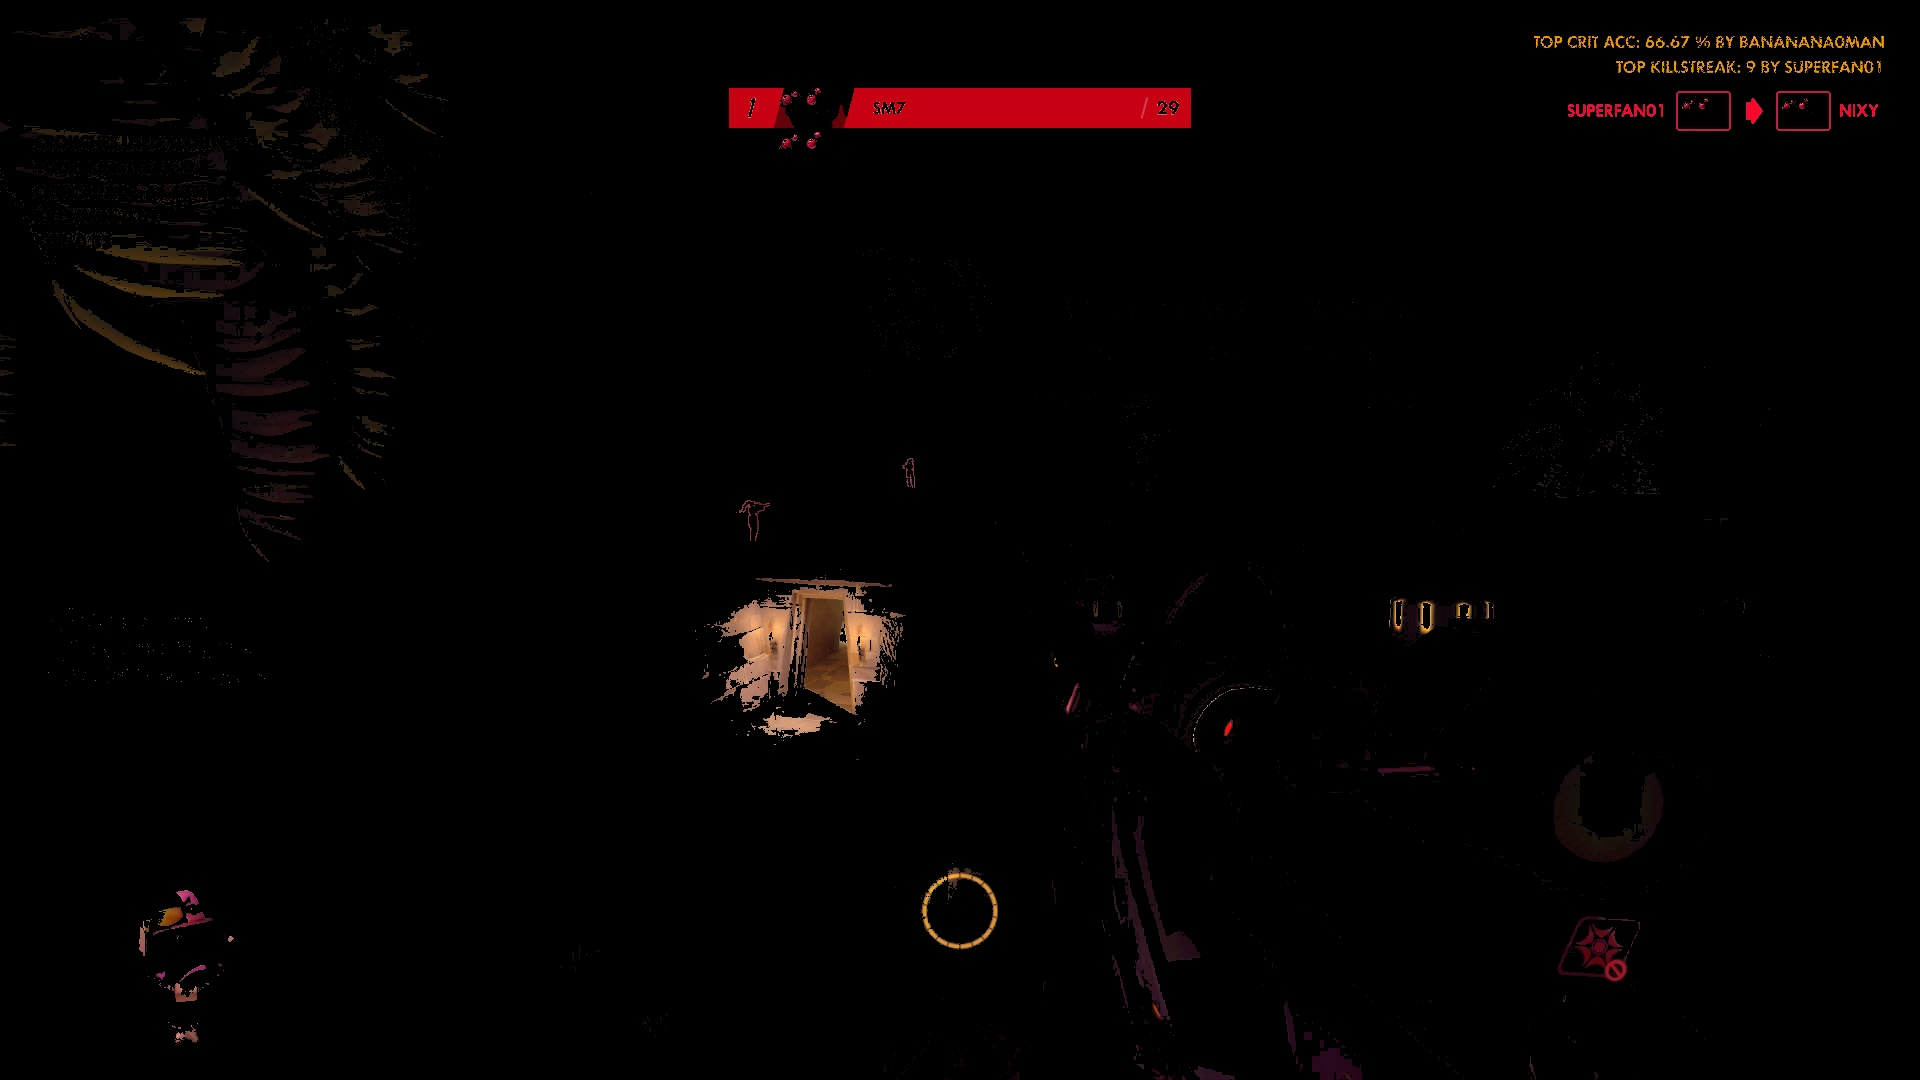widowmaker: (745, 500, 767, 546), (901, 458, 916, 492)
